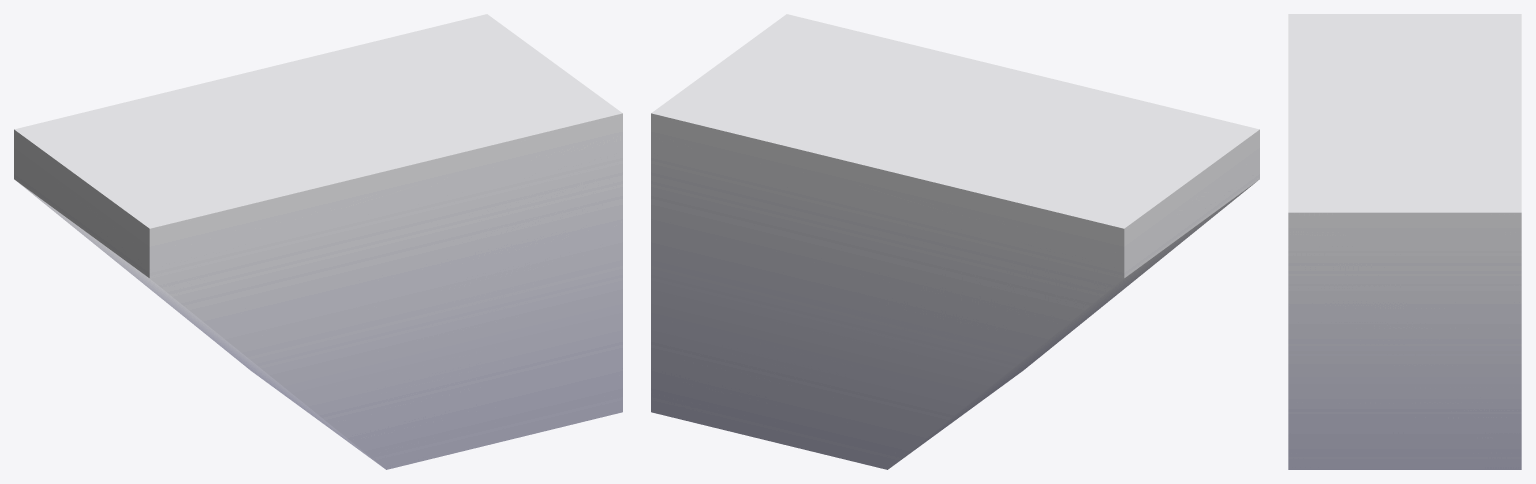
The model's file is brick-kit--none-lq-brick-slope-inverted-1x2.glb.
3 views of the same model, side by side, from view 1: azimuth 30°, elevation 25°; view 2: azimuth 150°, elevation 25°; view 3: azimuth 270°, elevation 25° (orthographic). The views are drawn at different scales.
Parts seen in each view (by area): view 1: none-lq-brick-slope-inverted-1x2; view 2: none-lq-brick-slope-inverted-1x2; view 3: none-lq-brick-slope-inverted-1x2.
Boxes of the visible parts, x1=… form: none-lq-brick-slope-inverted-1x2: x1=14, y1=14, x2=622, y2=469; none-lq-brick-slope-inverted-1x2: x1=651, y1=14, x2=1259, y2=469; none-lq-brick-slope-inverted-1x2: x1=1288, y1=14, x2=1521, y2=469.
Bounding box in the file's own units: 0.159 × 0.096 × 0.079.
Materials: 1 (1 with a texture image).
